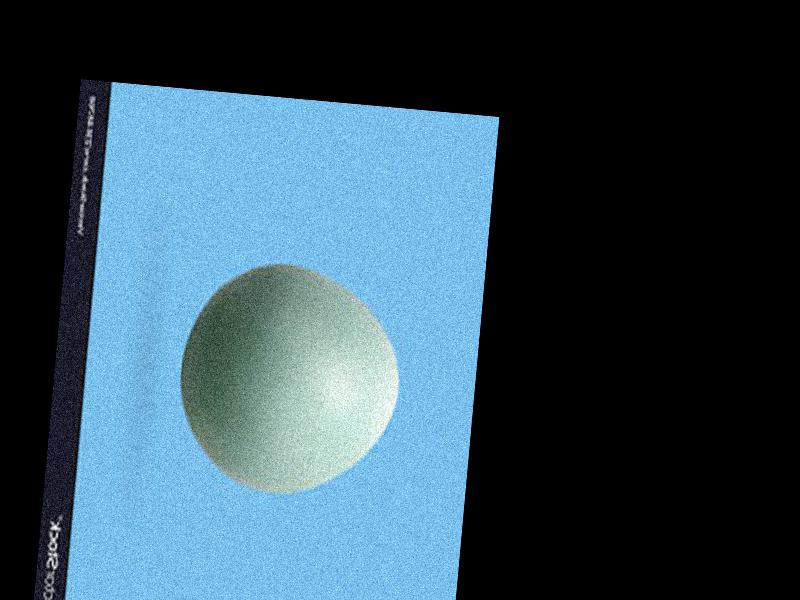Eggs: (172, 253, 408, 502)
